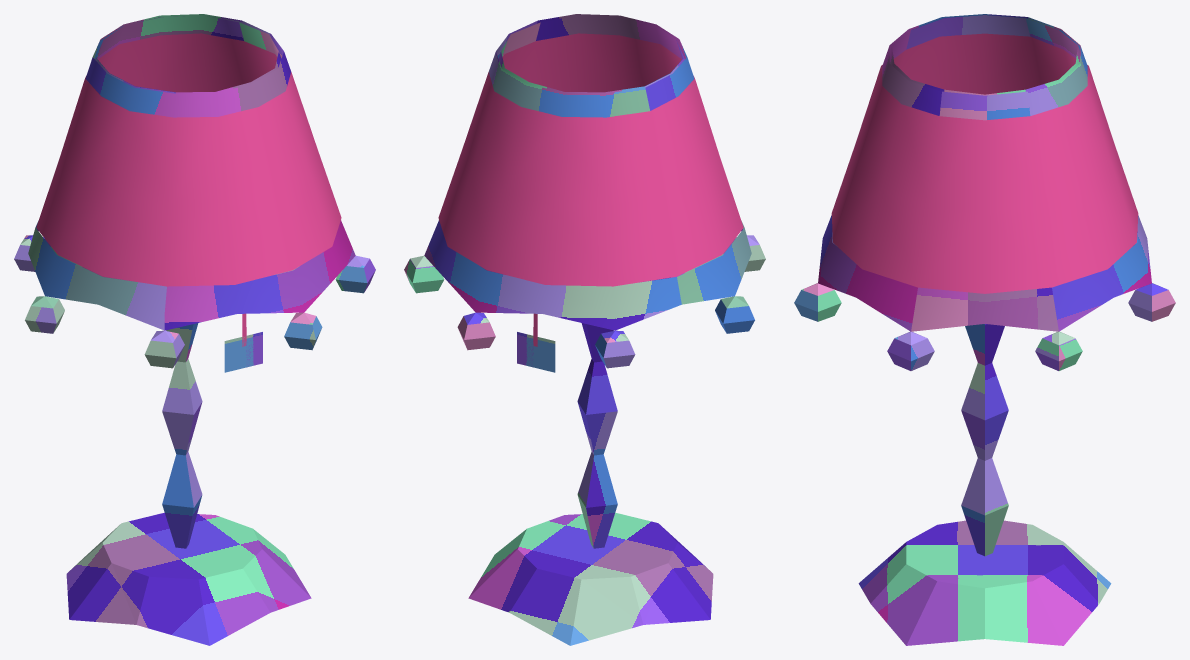
The model's file is rmk_lov_lamp_jwl.dae.
3 views of the same model, side by side, from view 1: azimuth 30°, elevation 25°; view 2: azimuth 150°, elevation 25°; view 3: azimuth 270°, elevation 25° (orthographic). The views are drawn at different scales.
Visible parts, largest first — view 1: rmk_lov_lamp_jwl; view 2: rmk_lov_lamp_jwl; view 3: rmk_lov_lamp_jwl.
Boxes of the visible parts, x1,y1,x2,y2 form: rmk_lov_lamp_jwl: (14,14,375,645); rmk_lov_lamp_jwl: (404,14,765,645); rmk_lov_lamp_jwl: (794,14,1175,645).
Size of the model in its own units: 28.25 by 46 by 28.98.
Materials: 2 (2 with a texture image).
